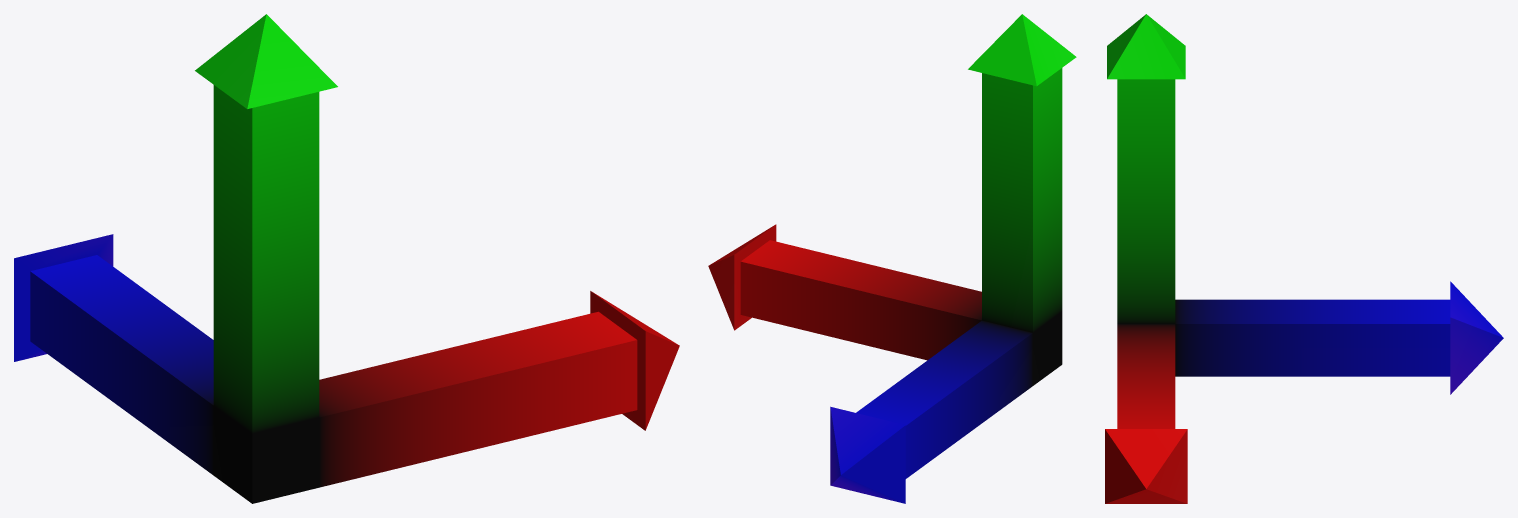
Rendered from Axis.glb.
The picture shows the model from 3 angles, left to right: view 1: azimuth 30°, elevation 25°; view 2: azimuth 150°, elevation 25°; view 3: azimuth 270°, elevation 25°; orthographic projection. The views are drawn at different scales.
Parts seen in each view (by area): view 1: Cube; view 2: Cube; view 3: Cube.
Part boxes in pixels (bbox=[...]): Cube: bbox=[14, 14, 679, 503]; Cube: bbox=[708, 14, 1076, 503]; Cube: bbox=[1105, 14, 1503, 503].
Size of the model in its own units: 0.2016 by 0.2016 by 0.2008.
